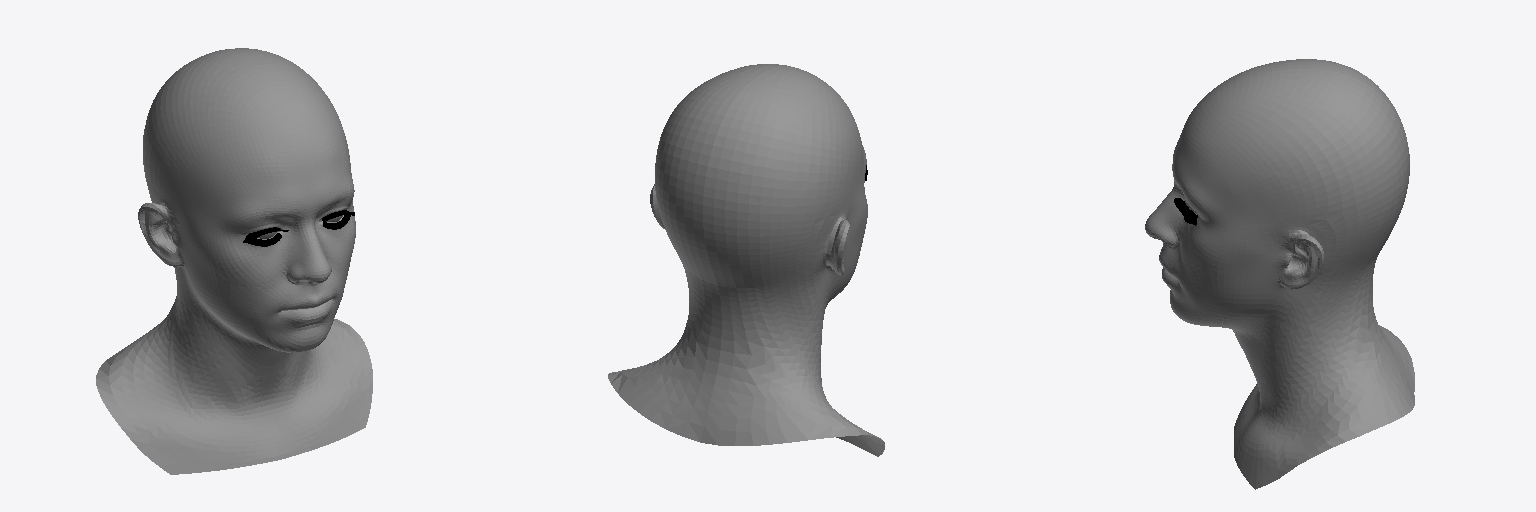
The model's file is identity017.obj.
3 views of the same model, side by side, from view 1: azimuth 30°, elevation 25°; view 2: azimuth 150°, elevation 25°; view 3: azimuth 270°, elevation 25° (orthographic).
Bounding box in the file's own units: 24.59 × 33.94 × 22.16.